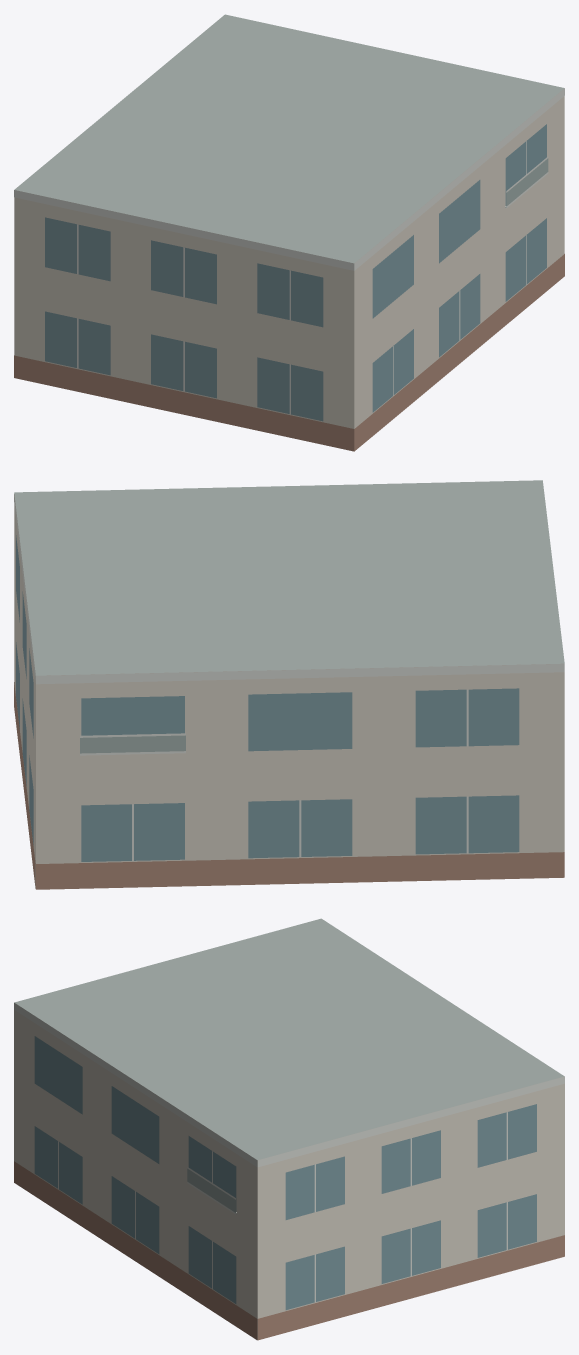
The model's file is survey-upis-32619363.glb.
The picture shows the model from 3 angles, top to bottom: view 1: azimuth 30°, elevation 25°; view 2: azimuth 150°, elevation 25°; view 3: azimuth 270°, elevation 25°; orthographic projection. The views are drawn at different scales.
Parts seen in each view (by area): view 1: survey-upis-32619363.tmp; view 2: survey-upis-32619363.tmp; view 3: survey-upis-32619363.tmp.
Boxes of the visible parts, box(x1,y1,x2,y2) form: survey-upis-32619363.tmp: box(14, 14, 564, 451); survey-upis-32619363.tmp: box(14, 480, 564, 889); survey-upis-32619363.tmp: box(14, 918, 564, 1340).
Size of the model in its own units: 17.57 by 6.1 by 16.91.
